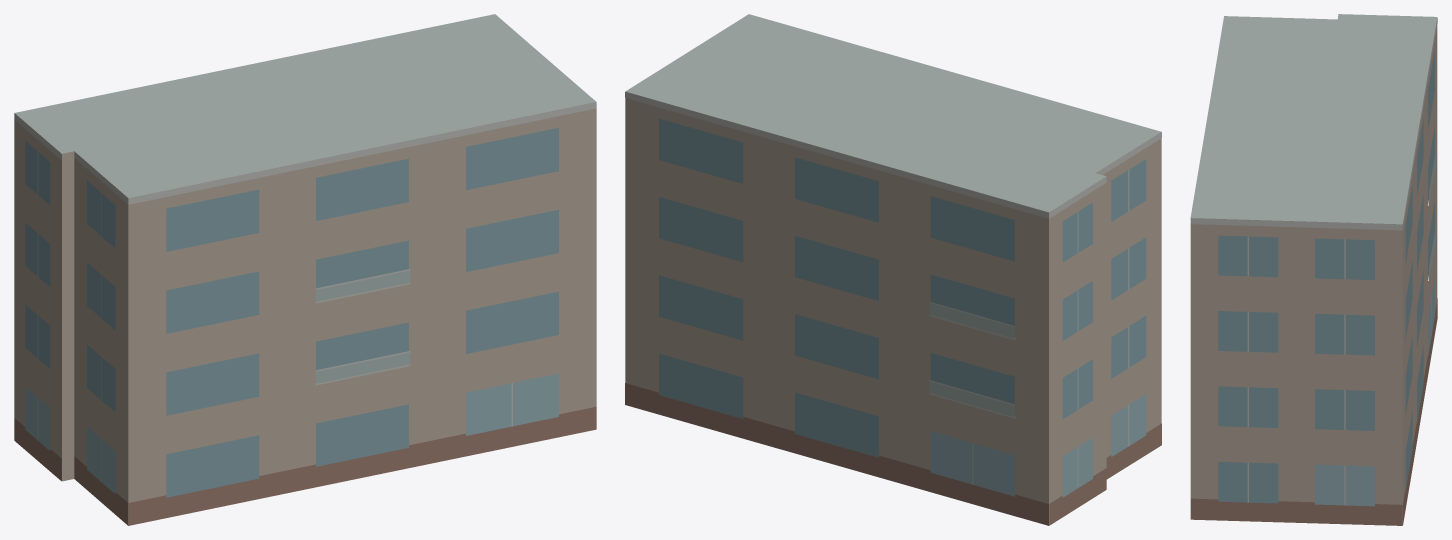
Rendered from survey-upis-32810978.glb.
The picture shows the model from 3 angles, left to right: view 1: azimuth 30°, elevation 25°; view 2: azimuth 150°, elevation 25°; view 3: azimuth 270°, elevation 25°; orthographic projection. The views are drawn at different scales.
Parts seen in each view (by area): view 1: survey-upis-32810978.tmp; view 2: survey-upis-32810978.tmp; view 3: survey-upis-32810978.tmp.
Boxes of the visible parts, x1,y1,x2,y2 form: survey-upis-32810978.tmp: (14, 14, 596, 525); survey-upis-32810978.tmp: (625, 14, 1161, 525); survey-upis-32810978.tmp: (1190, 14, 1437, 525).
Size of the model in its own units: 18.26 by 12.2 by 9.07.
